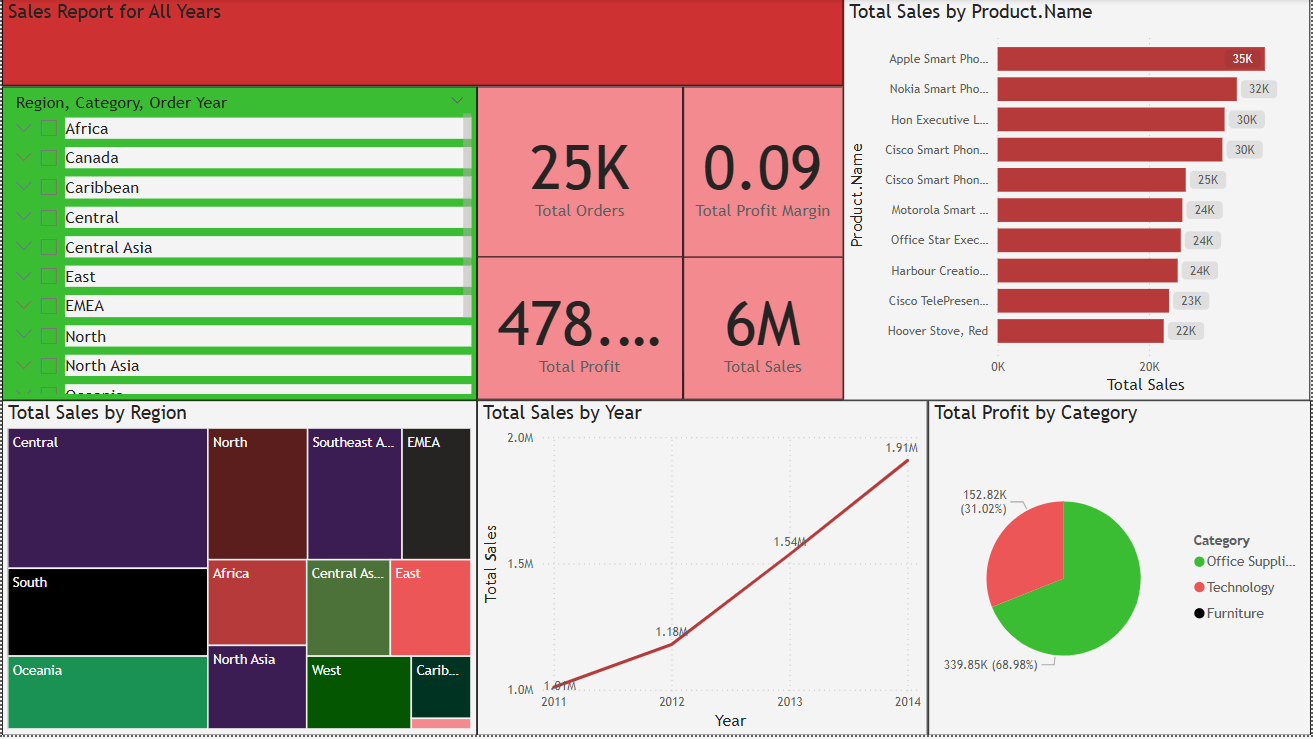

The page's visual inventory and layout, read from the dashboard file:
{"tool":"powerbi","page":{"name":"Page 1","canvas":[1280,720],"ordinal":0},"visuals":[{"type":"card","fields":{"Values":["superstore.Total Sales"]},"box":[666.9,252.5,156.4,140],"z":0},{"type":"card","fields":{"Values":["superstore.Total Orders"]},"box":[465.2,85.1,201.7,167.4],"z":1000},{"type":"card","fields":{"Values":["superstore.Total Profit"]},"box":[465.2,252.5,201.7,140],"z":2000},{"type":"card","fields":{"Values":["superstore.Total Profit Margin"]},"box":[666.9,85.1,156.4,167.4],"z":3000},{"type":"treemap","fields":{"Group":["superstore.Region"],"Values":["superstore.Total Sales"]},"box":[0,392.5,465.2,328],"z":4000},{"type":"lineChart","fields":{"Category":["superstore.Order.Date.Variation.Date Hierarchy.Year","superstore.Order.Date.Variation.Date Hierarchy.Month"],"Y":["superstore.Total Sales"]},"box":[465.2,392.5,440.5,328],"z":5000},{"type":"pieChart","fields":{"Category":["superstore.Category"],"Y":["superstore.Total Profit"]},"box":[905.7,392.5,374.6,328],"z":6000},{"type":"slicer","fields":{"Values":["superstore.Region","superstore.Category","superstore.Order Year"]},"box":[0,85.1,465.2,307.4],"z":7000},{"type":"actionButton","box":[0,0,100,40],"z":8000},{"type":"textbox","box":[0,0,823.3,85.1],"z":9000},{"type":"clusteredBarChart","fields":{"Category":["superstore.Product.Name"],"Y":["superstore.Total Sales"]},"box":[823.3,0,456.9,392.5],"z":9001}]}

Visuals, with their boxes in screenshot pixels (x1, y1, x2, y2), scaled from the page's 1280x720 canvas onto the 1313x739 screenshot:
card - superstore.Total Sales: [684, 259, 845, 403]
card - superstore.Total Orders: [477, 87, 684, 259]
card - superstore.Total Profit: [477, 259, 684, 403]
card - superstore.Total Profit Margin: [684, 87, 845, 259]
treemap - superstore.Region x superstore.Total Sales: [0, 403, 477, 738]
lineChart - superstore.Order.Date.Variation.Date Hierarchy.Year x superstore.Order.Date.Variation.Date Hierarchy.Month: [477, 403, 929, 738]
pieChart - superstore.Category x superstore.Total Profit: [929, 403, 1312, 738]
slicer - superstore.Region x superstore.Category: [0, 87, 477, 403]
actionButton: [0, 0, 103, 41]
textbox: [0, 0, 845, 87]
clusteredBarChart - superstore.Product.Name x superstore.Total Sales: [845, 0, 1312, 403]
